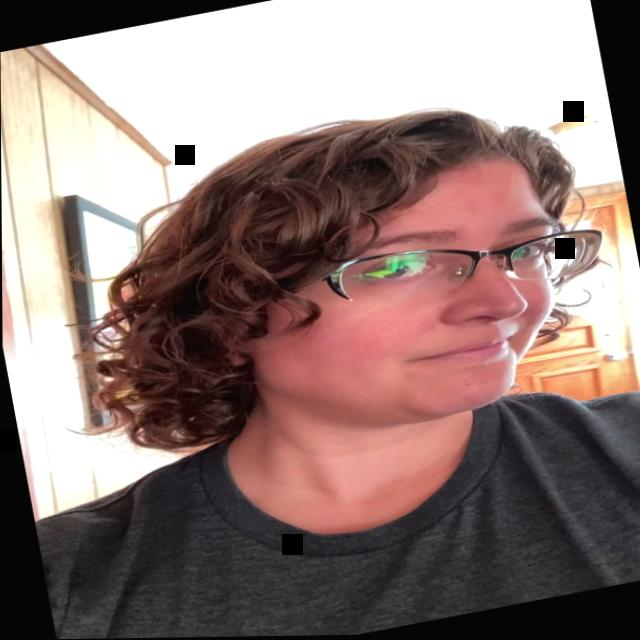NO-Mask: (228, 146, 589, 452)
